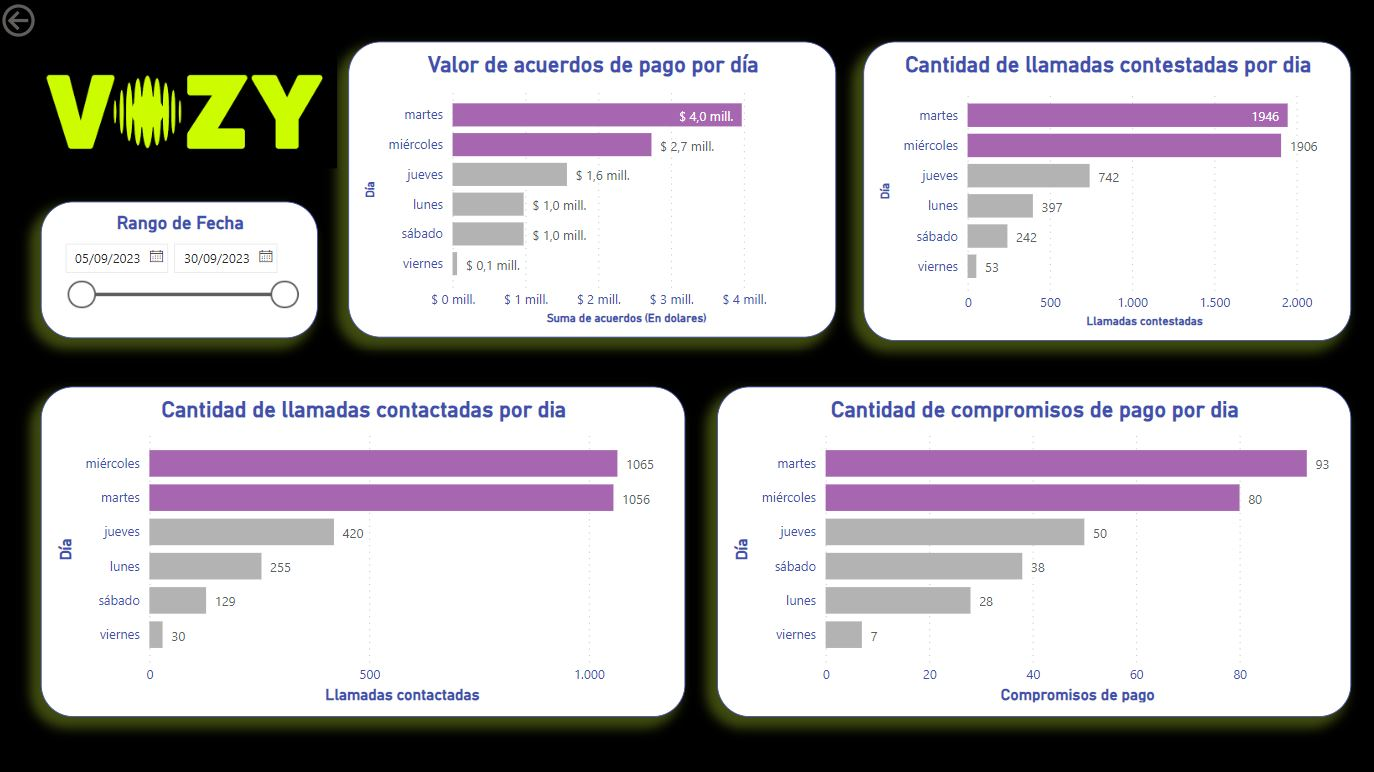

The dashboard page shown, as its layout file describes it:
{"tool":"powerbi","page":{"name":"6","canvas":[1280,720],"ordinal":1},"visuals":[{"type":"clusteredBarChart","title":"Valor de acuerdos de pago por día","fields":{"Category":["df_powerbi.Nombre del día"],"Y":["Sum(df_powerbi.Cantidad)"]},"box":[326.3,39.8,453.8,275.6],"z":0},{"type":"slicer","title":"Rango de Fecha","fields":{"Values":["df_powerbi.date"]},"box":[41.1,187.8,257.8,127.5],"z":1000},{"type":"clusteredBarChart","title":"Cantidad de llamadas contestadas por dia","fields":{"Category":["df_powerbi.Nombre del día"],"Y":["CountNonNull(df_powerbi.Answered)"]},"box":[804.8,39.8,453.8,278.3],"z":2000},{"type":"clusteredBarChart","title":"Cantidad de compromisos de pago por dia","fields":{"Category":["df_powerbi.Nombre del día"],"Y":["CountNonNull(df_powerbi.success_type)"]},"box":[669.1,360.6,589.5,307.1],"z":3000},{"type":"clusteredBarChart","title":"Cantidad de llamadas contactadas por dia","fields":{"Category":["df_powerbi.Nombre del día"],"Y":["CountNonNull(df_powerbi.Contacted)"]},"box":[41.1,360.6,599.1,307.1],"z":4000},{"type":"actionButton","box":[0,0,100,40],"z":5000},{"type":"image","box":[20.6,30.2,300.3,149.4],"z":6000}]}

Visuals, with their boxes in screenshot pixels (x1, y1, x2, y2), scaled from the page's 1280x720 canvas onto the 1374x772 screenshot:
"Valor de acuerdos de pago por día" clusteredBarChart: [left=350, top=43, right=837, bottom=338]
"Rango de Fecha" slicer: [left=44, top=201, right=321, bottom=338]
"Cantidad de llamadas contestadas por dia" clusteredBarChart: [left=864, top=43, right=1351, bottom=341]
"Cantidad de compromisos de pago por dia" clusteredBarChart: [left=718, top=387, right=1351, bottom=716]
"Cantidad de llamadas contactadas por dia" clusteredBarChart: [left=44, top=387, right=687, bottom=716]
actionButton: [left=0, top=0, right=107, bottom=43]
image: [left=22, top=32, right=344, bottom=193]
